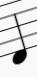note: (5, 4, 32, 67)
